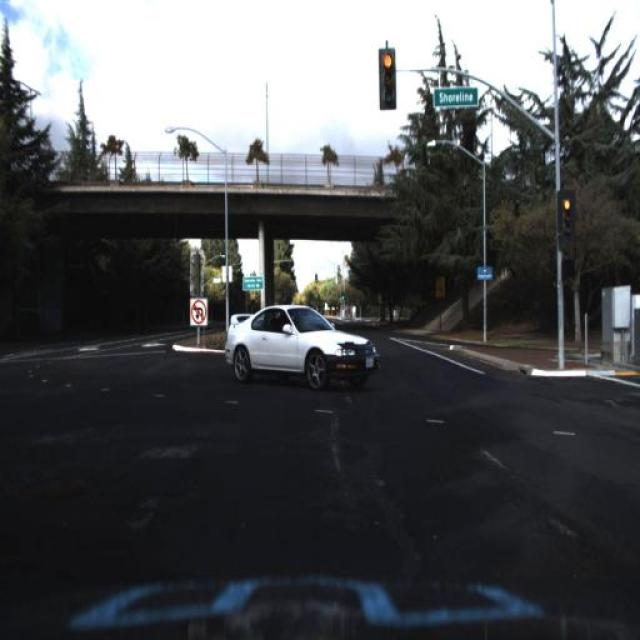car: (216, 296, 382, 389)
trafficLight-Green: (558, 187, 576, 243)
trafficLight-RedLeft: (377, 47, 395, 109)
